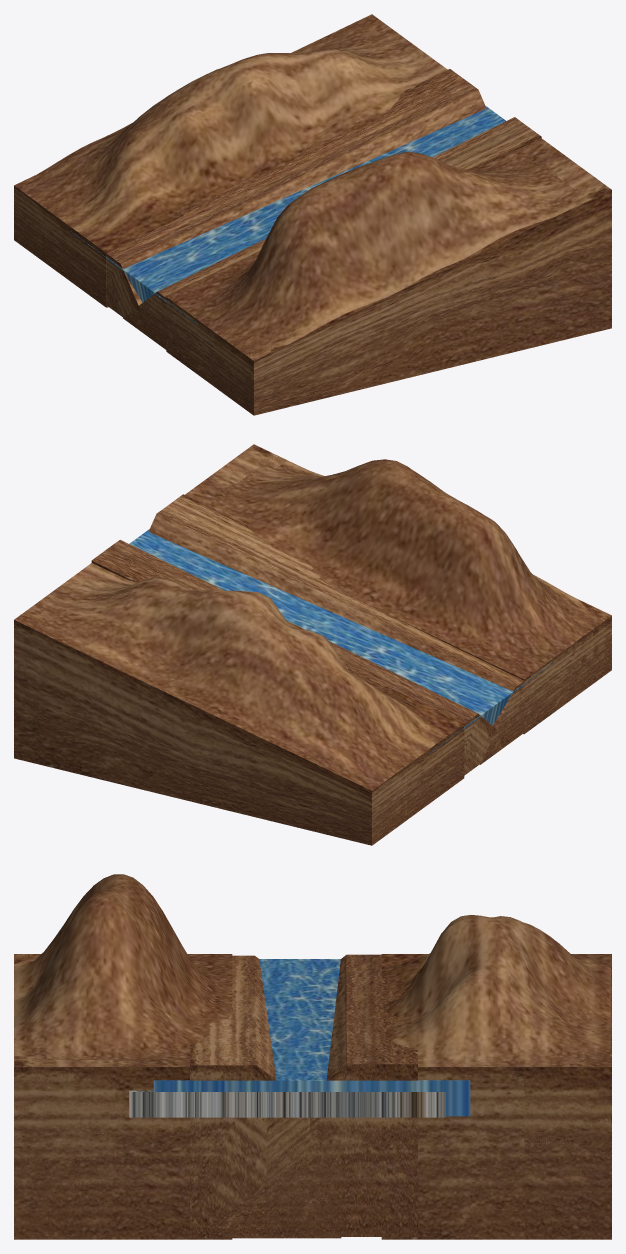
The picture shows the model from 3 angles, top to bottom: view 1: azimuth 30°, elevation 25°; view 2: azimuth 150°, elevation 25°; view 3: azimuth 270°, elevation 25°; orthographic projection. The views are drawn at different scales.
Parts seen in each view (by area): view 1: node_rightmount_-63190, node_leftmount_-63186, node_leftmove_-63188, node_water_-63194, node_rightmove_-63192; view 2: node_leftmount_-63186, node_rightmount_-63190, node_rightmove_-63192, node_water_-63194, node_leftmove_-63188; view 3: node_leftmount_-63186, node_rightmount_-63190, node_leftmove_-63188, node_rightmove_-63192, node_water_-63194, node_stone_-63196.
Part boxes in pixels (box(x1,y1,x2,y2)): node_rightmount_-63190: box(166, 138, 611, 415); node_leftmount_-63186: box(14, 14, 447, 307); node_leftmove_-63188: box(106, 69, 486, 337); node_water_-63194: box(70, 106, 505, 324); node_rightmove_-63192: box(123, 117, 541, 349); node_leftmount_-63186: box(14, 563, 464, 845); node_rightmount_-63190: box(185, 444, 611, 734); node_rightmove_-63192: box(148, 494, 524, 764); node_water_-63194: box(129, 529, 555, 753); node_leftmove_-63188: box(91, 540, 510, 775); node_leftmount_-63186: box(381, 915, 611, 1239); node_rightmount_-63190: box(14, 874, 232, 1239); node_leftmove_-63188: box(266, 954, 417, 1236); node_rightmove_-63192: box(190, 955, 341, 1238); node_water_-63194: box(153, 959, 470, 1116); node_stone_-63196: box(129, 1090, 445, 1117).
Size of the model in its own units: 1.15 by 0.5748 by 1.31.
